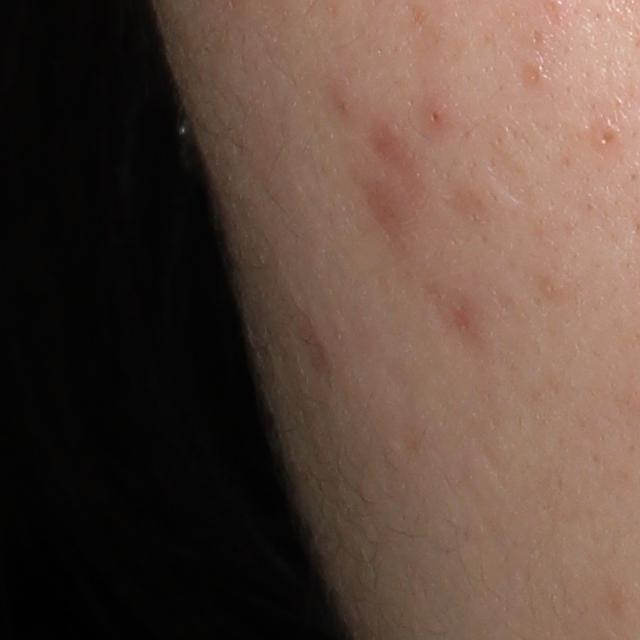comedo: (593, 119, 619, 150)
papule: (424, 100, 451, 128)
